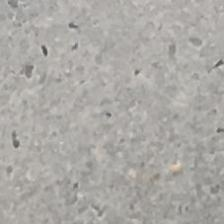Non_Crack: (8, 15, 224, 203)
